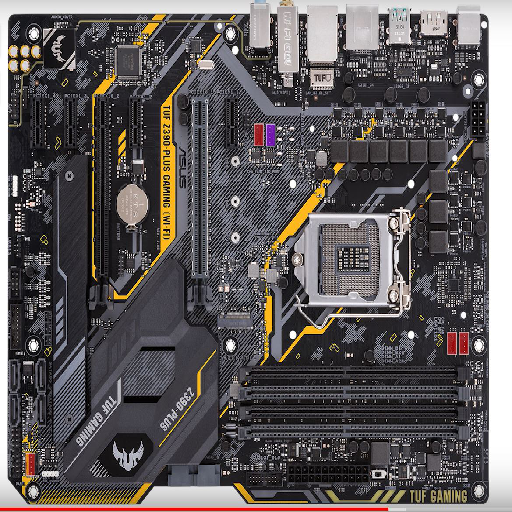CPU: (292, 208, 412, 308)
GPU: (185, 95, 213, 313), (88, 96, 115, 309)
MOTHERBOARD: (9, 12, 489, 504)
RAM: (237, 364, 472, 442)
SSD: (216, 311, 256, 330)
